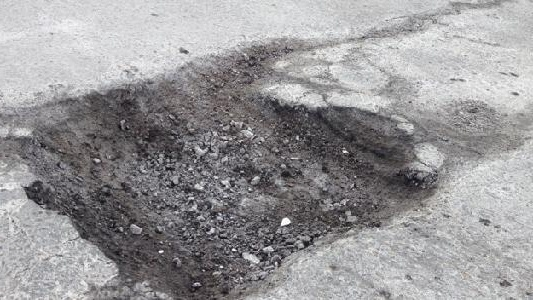pothole: (17, 39, 441, 299)
